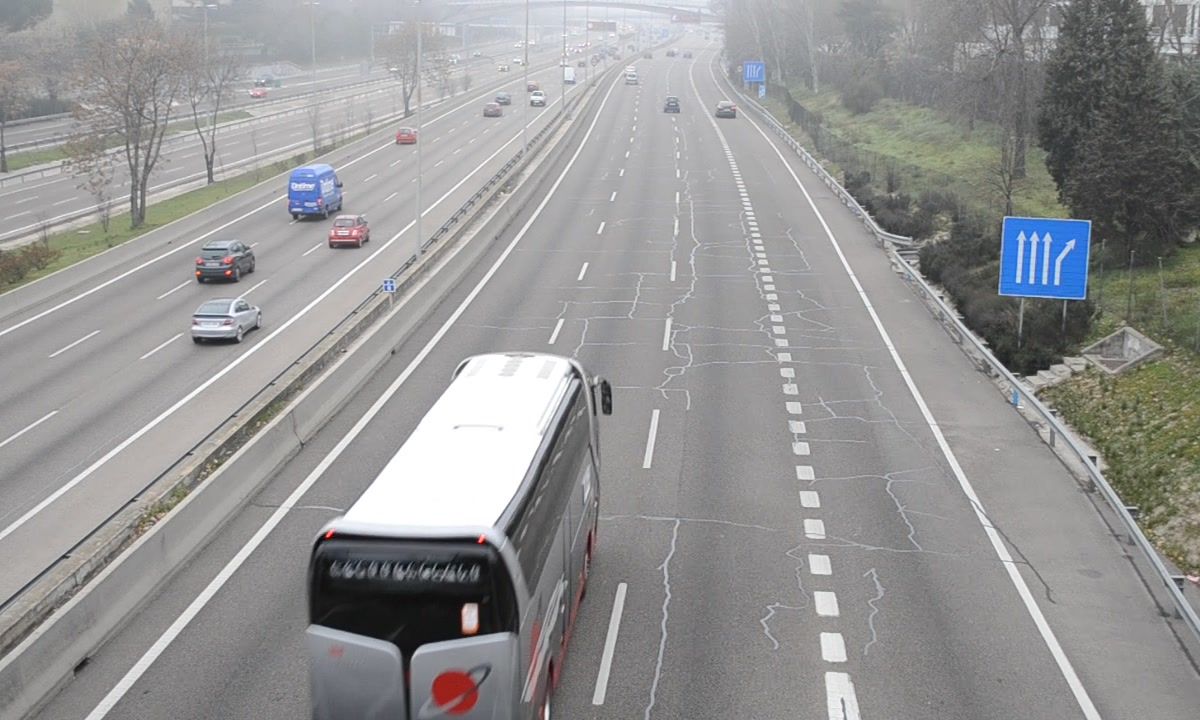bus: (303, 352, 603, 720)
car: (662, 95, 683, 116), (715, 101, 737, 120)
